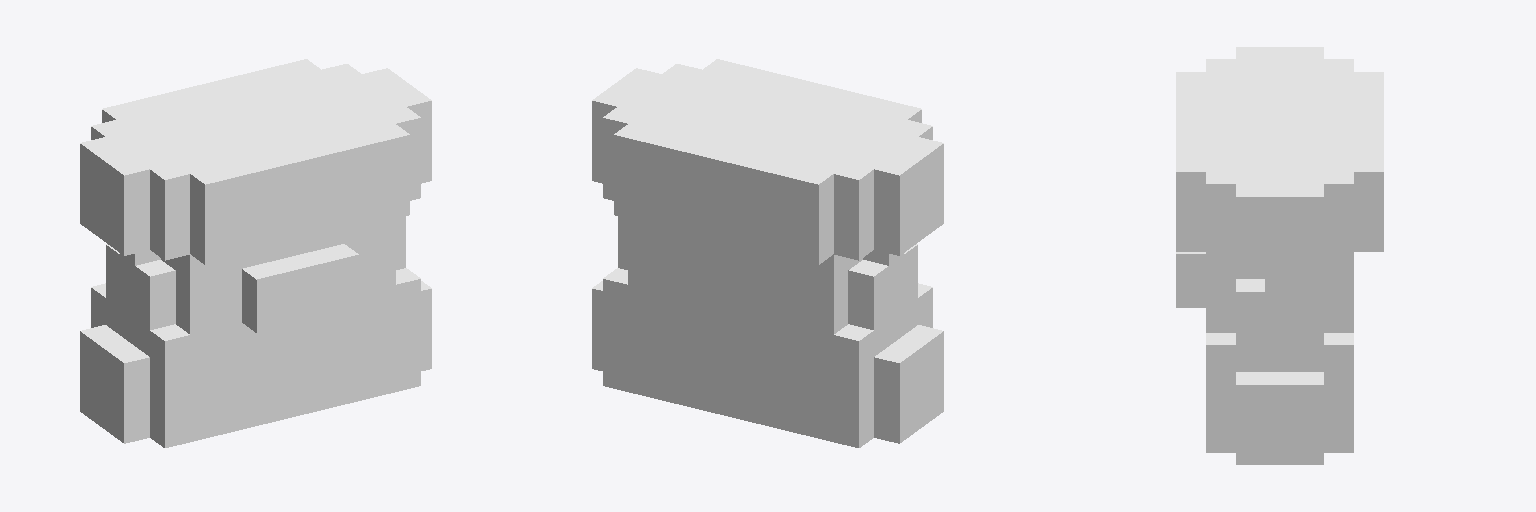
Rendered from char_torso.obj.
3 renders of one model, left to right at view 1: azimuth 30°, elevation 25°; view 2: azimuth 150°, elevation 25°; view 3: azimuth 270°, elevation 25°, orthographic.
Size of the model in its own units: 12 by 10 by 7.